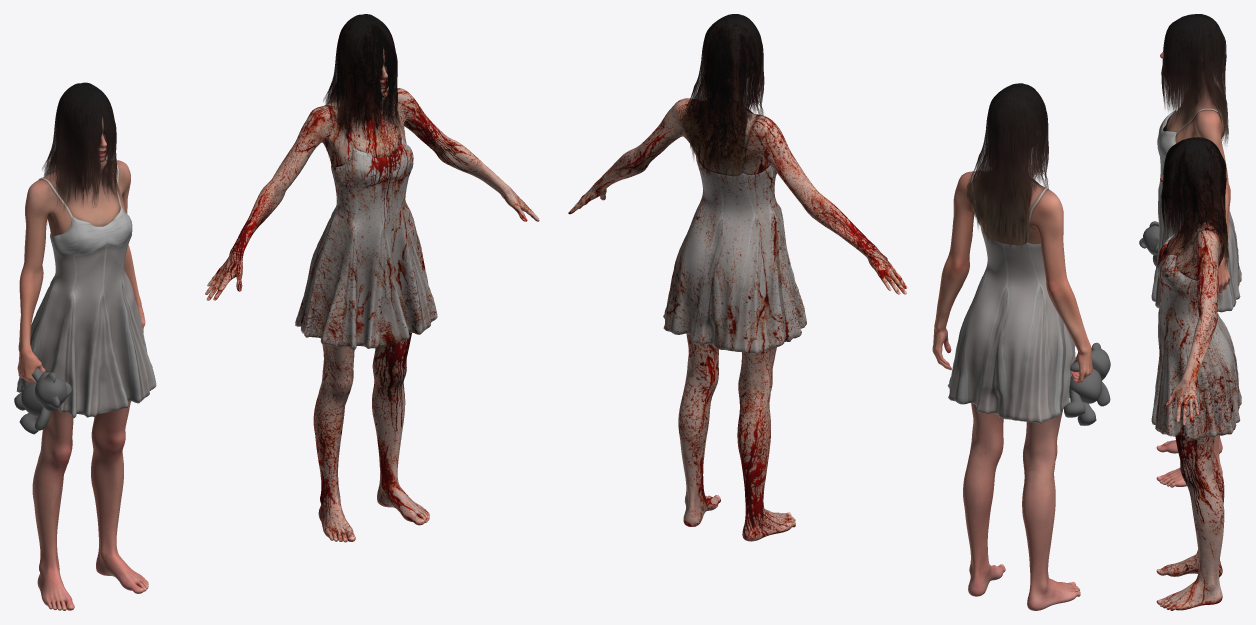
File: crazy_ex_gf_game_mesh.glb
The picture shows the model from 3 angles, left to right: view 1: azimuth 30°, elevation 25°; view 2: azimuth 150°, elevation 25°; view 3: azimuth 270°, elevation 25°; orthographic projection. The views are drawn at different scales.
Visible parts, largest first — view 1: Object_5, Object_4, Object_6, Object_7, Object_2, Object_3, Object_8; view 2: Object_5, Object_6, Object_4, Object_7, Object_2, Object_3, Object_8; view 3: Object_5, Object_4, Object_3, Object_2, Object_6, Object_7, Object_8.
Part boxes in pixels (x1,y1,x2,y2): Object_5: (205,18,539,542); Object_4: (295,83,437,349); Object_6: (17,86,148,610); Object_7: (16,151,156,417); Object_2: (42,82,123,224); Object_3: (323,14,404,156); Object_8: (14,368,71,434); Object_5: (568,18,907,541); Object_6: (932,87,1092,610); Object_4: (663,157,806,353); Object_7: (947,171,1075,423); Object_2: (966,83,1048,253); Object_3: (681,14,764,184); Object_8: (1064,342,1110,425); Object_5: (1156,139,1224,610); Object_4: (1151,233,1241,440); Object_3: (1161,137,1228,269); Object_2: (1161,14,1228,145); Object_6: (1156,16,1230,487); Object_7: (1151,108,1241,312); Object_8: (1139,221,1159,265).
Size of the model in its own units: 185 by 171 by 35.17.
Materials: 8 (6 with a texture image).
